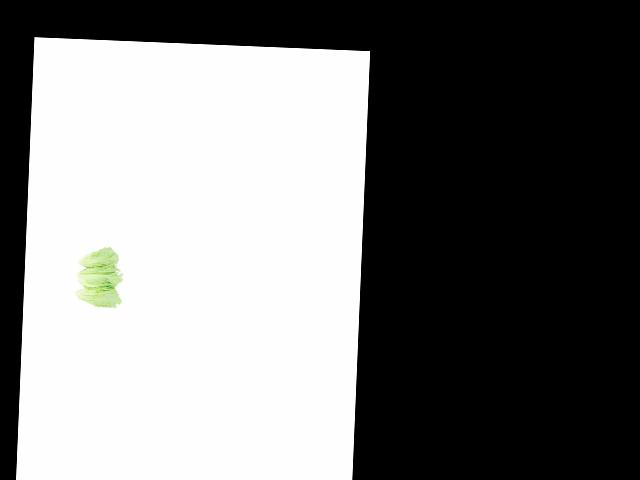lettuce: (67, 245, 120, 272)
